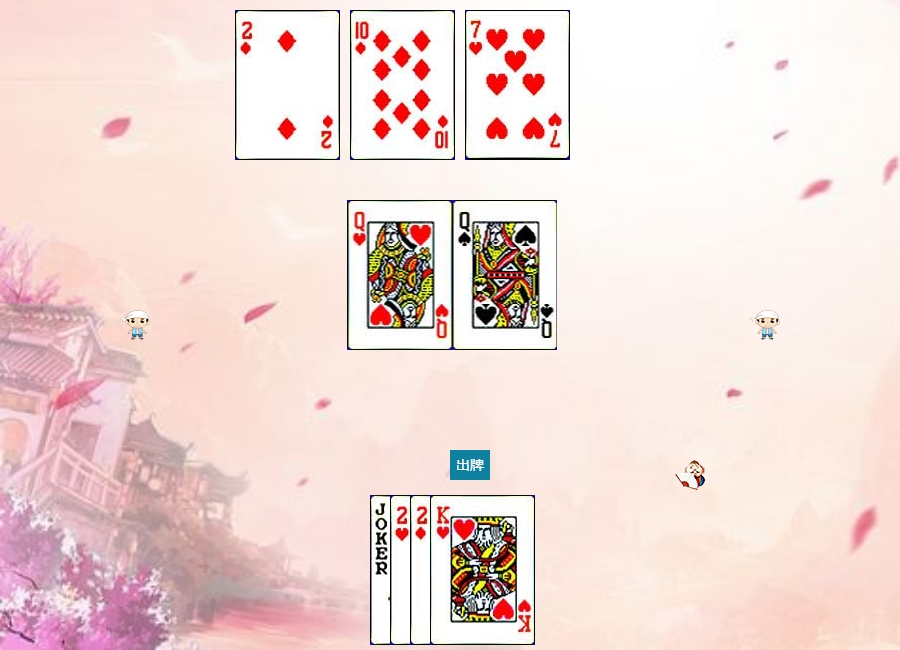10~1: (350, 10, 455, 160)
12~3: (348, 200, 453, 350)
12~4: (453, 200, 558, 350)
13~3: (430, 495, 535, 645)
15~1: (235, 10, 340, 160), (410, 495, 515, 645)
15~3: (390, 495, 495, 645)
17~3: (370, 495, 475, 645)
7~3: (465, 10, 570, 160)
